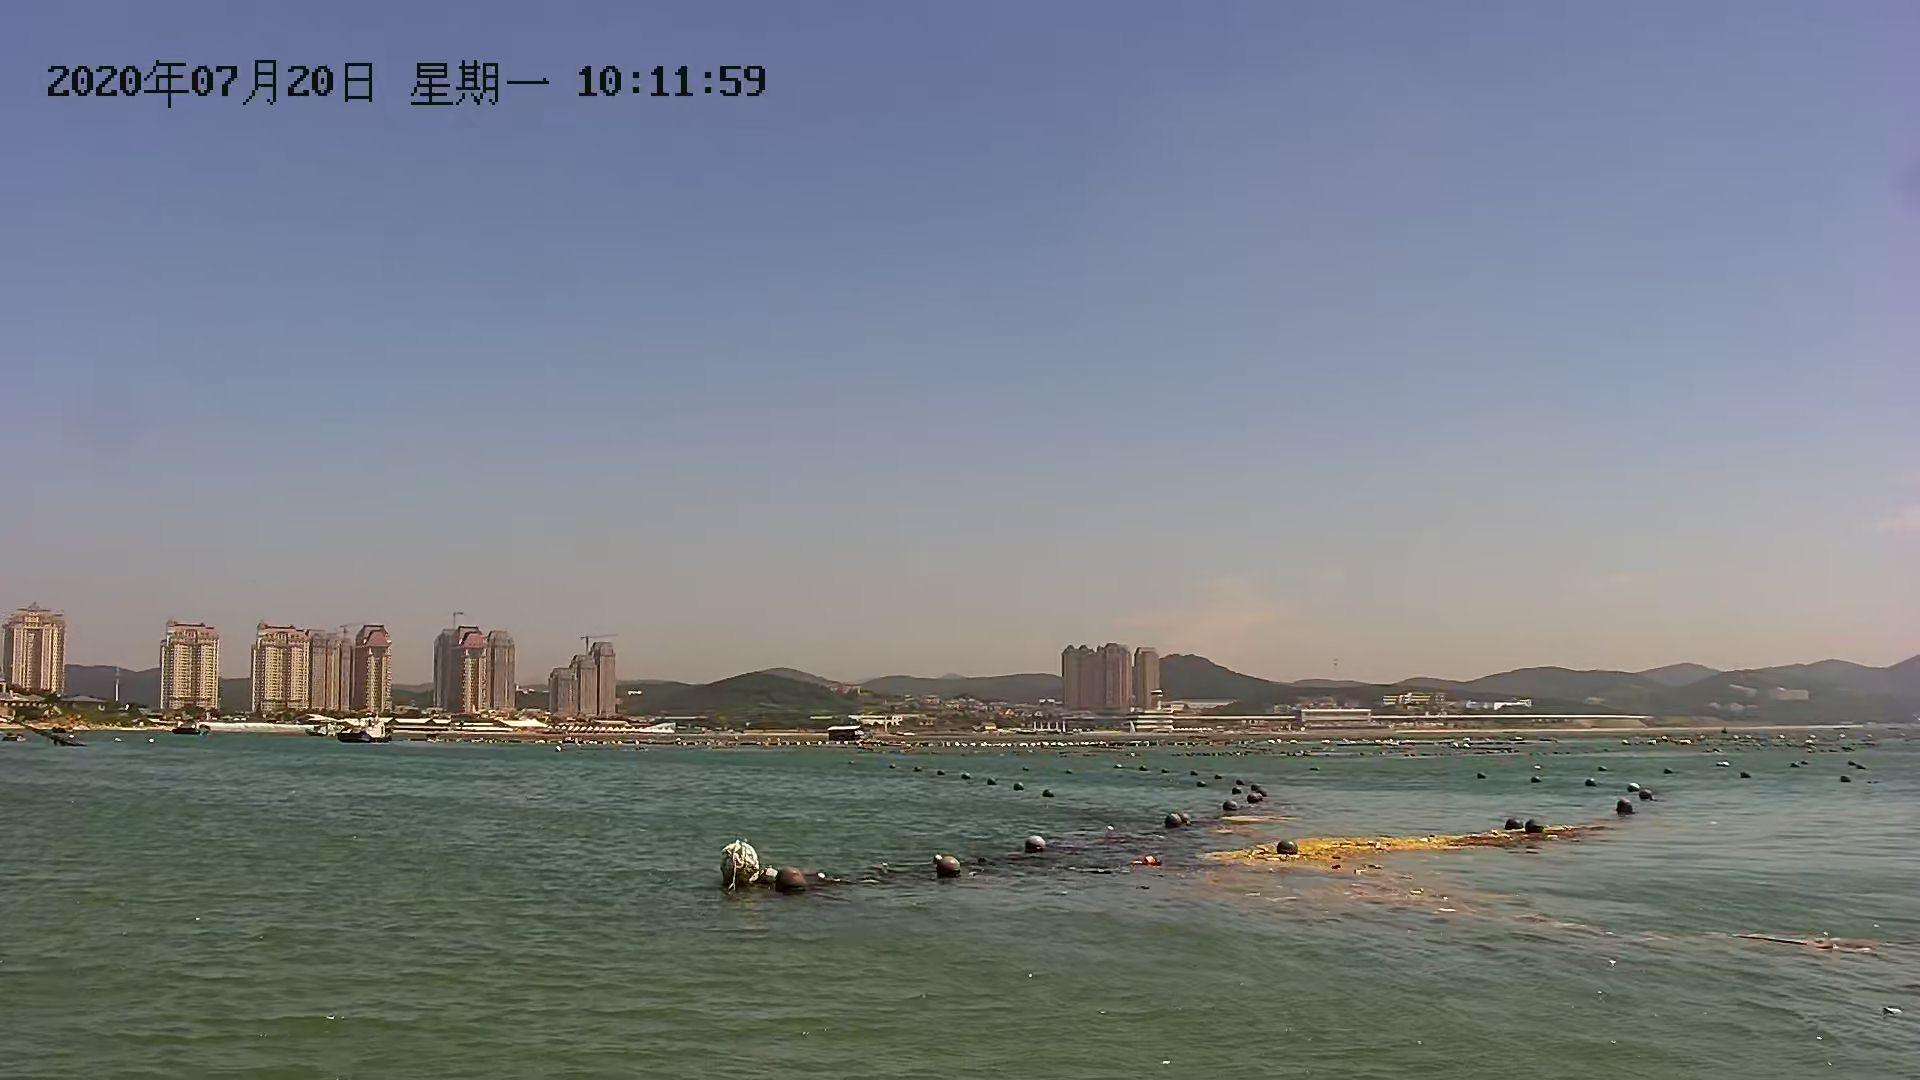ball: (769, 860, 808, 903), (1018, 827, 1050, 864), (934, 851, 967, 884), (1520, 815, 1549, 843), (1273, 831, 1299, 861), (1607, 794, 1636, 820), (1159, 807, 1185, 829)
rubbish: (712, 833, 764, 898)
